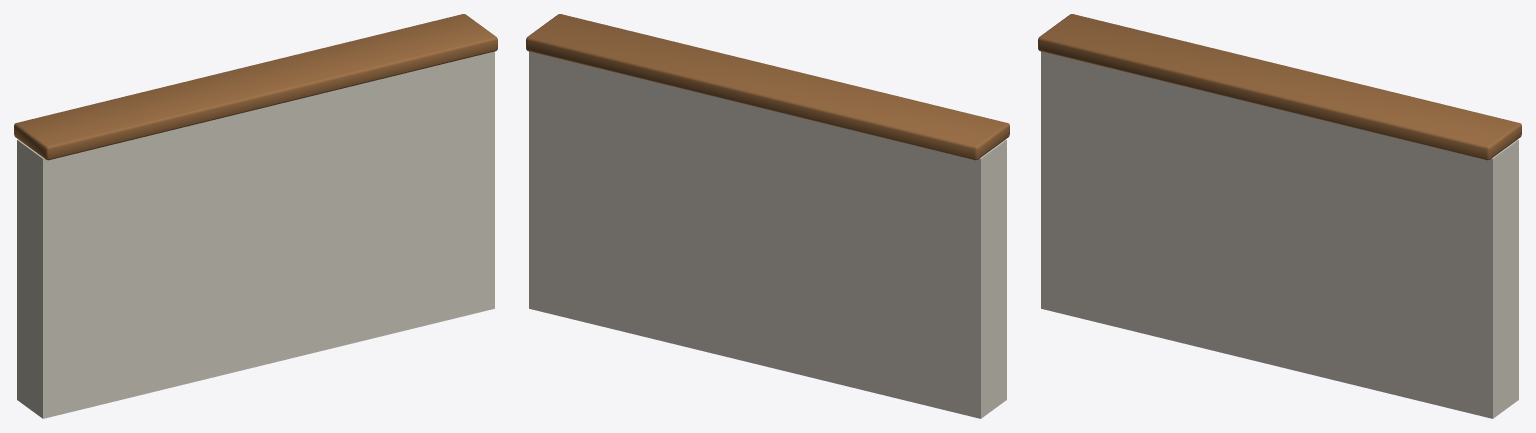
The model's file is Wall_Half_2m.glb.
The picture shows the model from 3 angles, left to right: view 1: azimuth 30°, elevation 25°; view 2: azimuth 150°, elevation 25°; view 3: azimuth 330°, elevation 25°; orthographic projection.
Visible parts, largest first — view 1: Wall_Half_2m; view 2: Wall_Half_2m; view 3: Wall_Half_2m.
Part boxes in pixels (<box>): Wall_Half_2m: <box>14,14,497,418</box>; Wall_Half_2m: <box>526,14,1009,418</box>; Wall_Half_2m: <box>1038,14,1521,418</box>.
Size of the model in its own units: 2 by 1.16 by 0.26.
